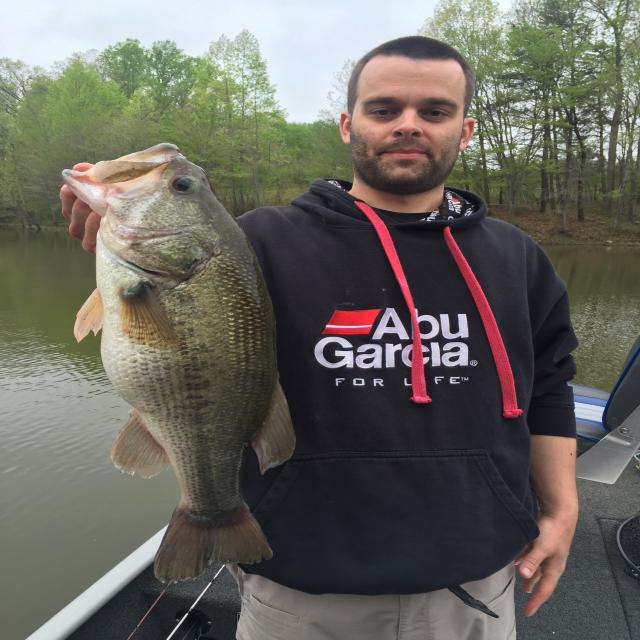Bass - Largemouth: (62, 143, 294, 582)
